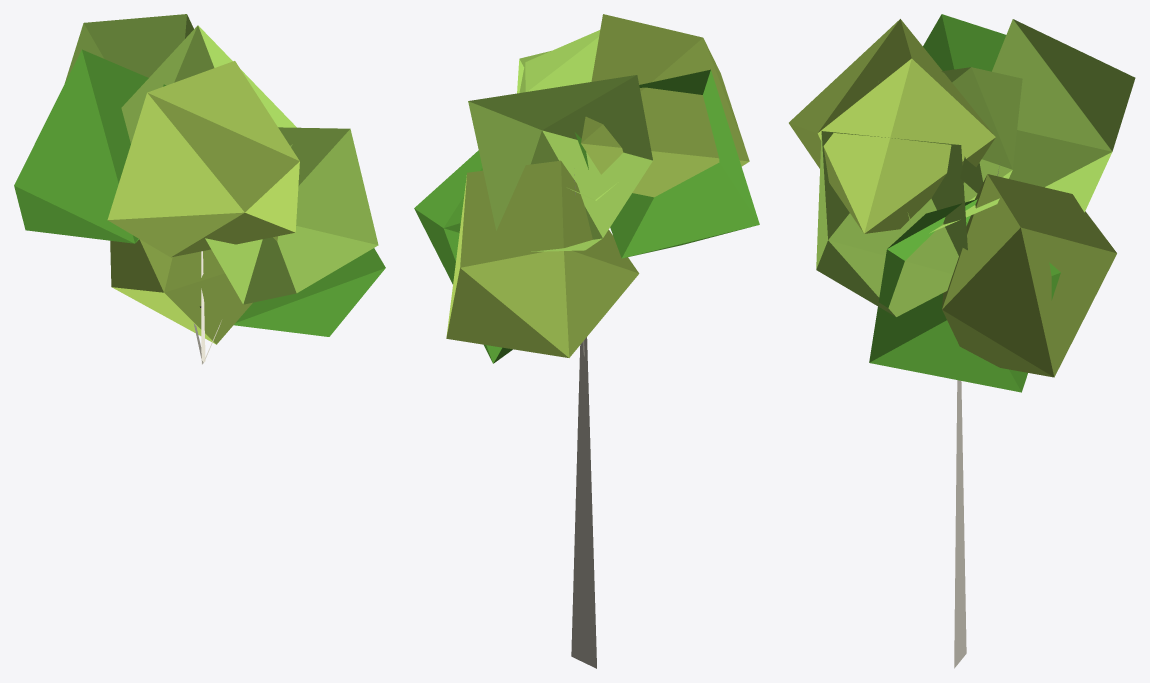
The model's file is tree_birch_3_lod2.glb.
The picture shows the model from 3 angles, left to right: view 1: azimuth 30°, elevation 25°; view 2: azimuth 150°, elevation 25°; view 3: azimuth 270°, elevation 25°; orthographic projection. The views are drawn at different scales.
Visible parts, largest first — view 1: tree_birch_3_lod2; view 2: tree_birch_3_lod2; view 3: tree_birch_3_lod2.
Boxes of the visible parts, x1,y1,x2,y2 form: tree_birch_3_lod2: (14, 14, 385, 364); tree_birch_3_lod2: (414, 14, 759, 668); tree_birch_3_lod2: (789, 14, 1135, 668).
Size of the model in its own units: 3.97 by 7.01 by 3.64.
